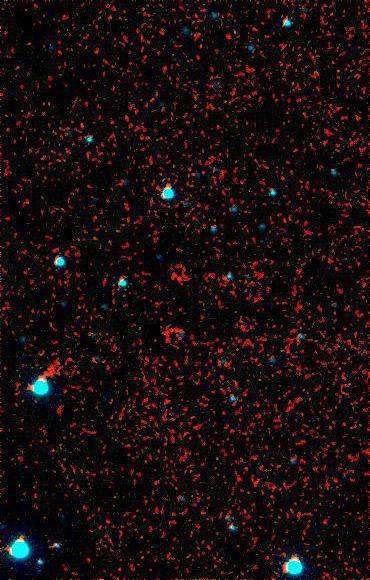star: (218, 15, 248, 45)
